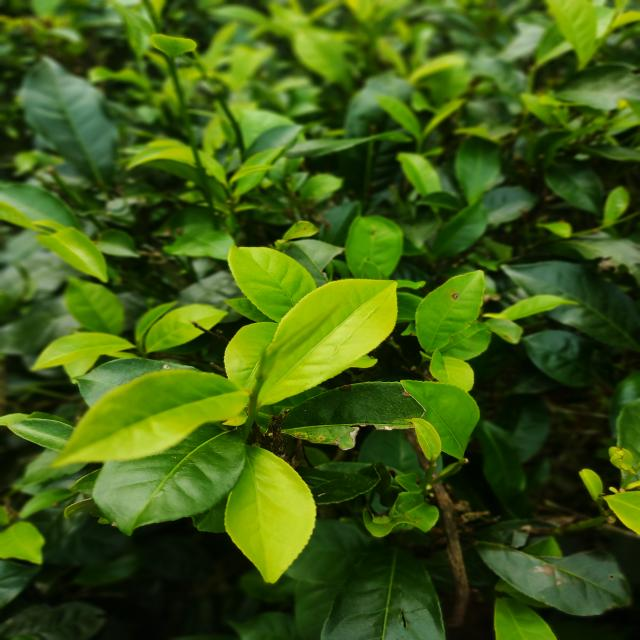unopened_leaf: (231, 342, 273, 430)
